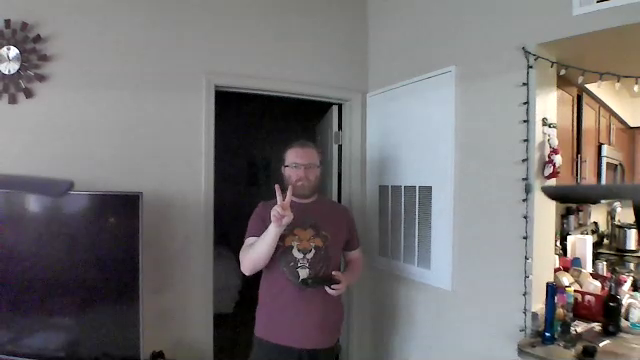peace: (264, 180, 303, 232)
